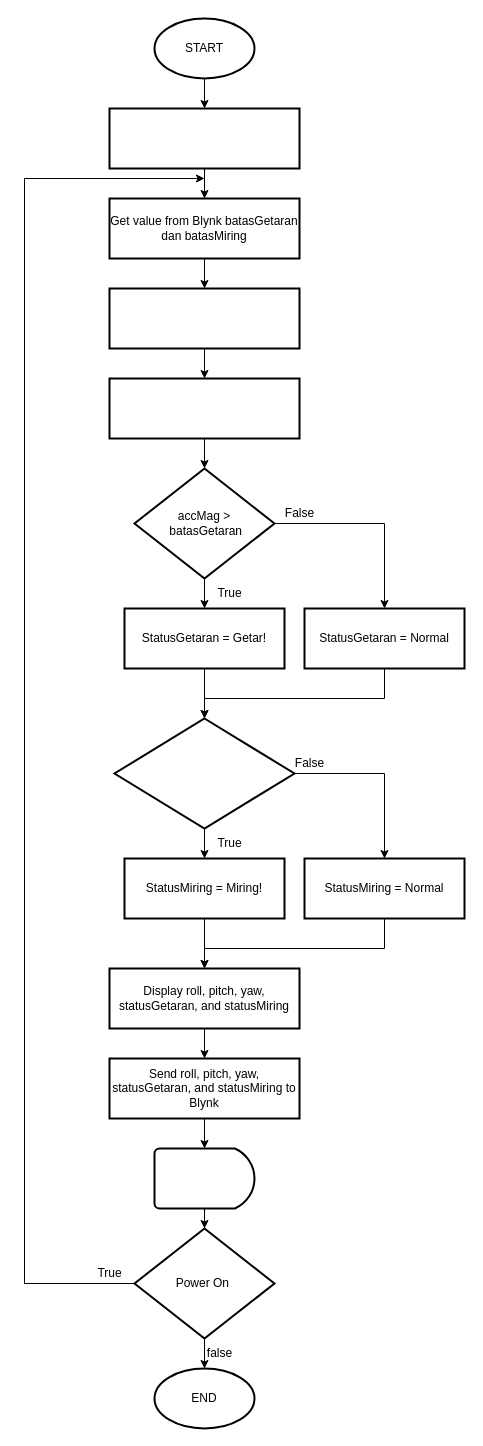
Image size: 483x1446. Some labels were removed from this diagram. The shapes that lost their labels are listed below. From the top down, each one's centre as x and y in pixels, then its label:
At (204,138): "Setup MPU6050, OLED Display, and Connect to Blynk".
At (204,318): "Read MPU6050".
At (204,408): "Calculate yaw, pitch, roll, and accMag".
At (204,773): "abs(pitch) > batasMiring || abs(roll) > batasMiring".
At (204,1178): "Delay 100ms".
